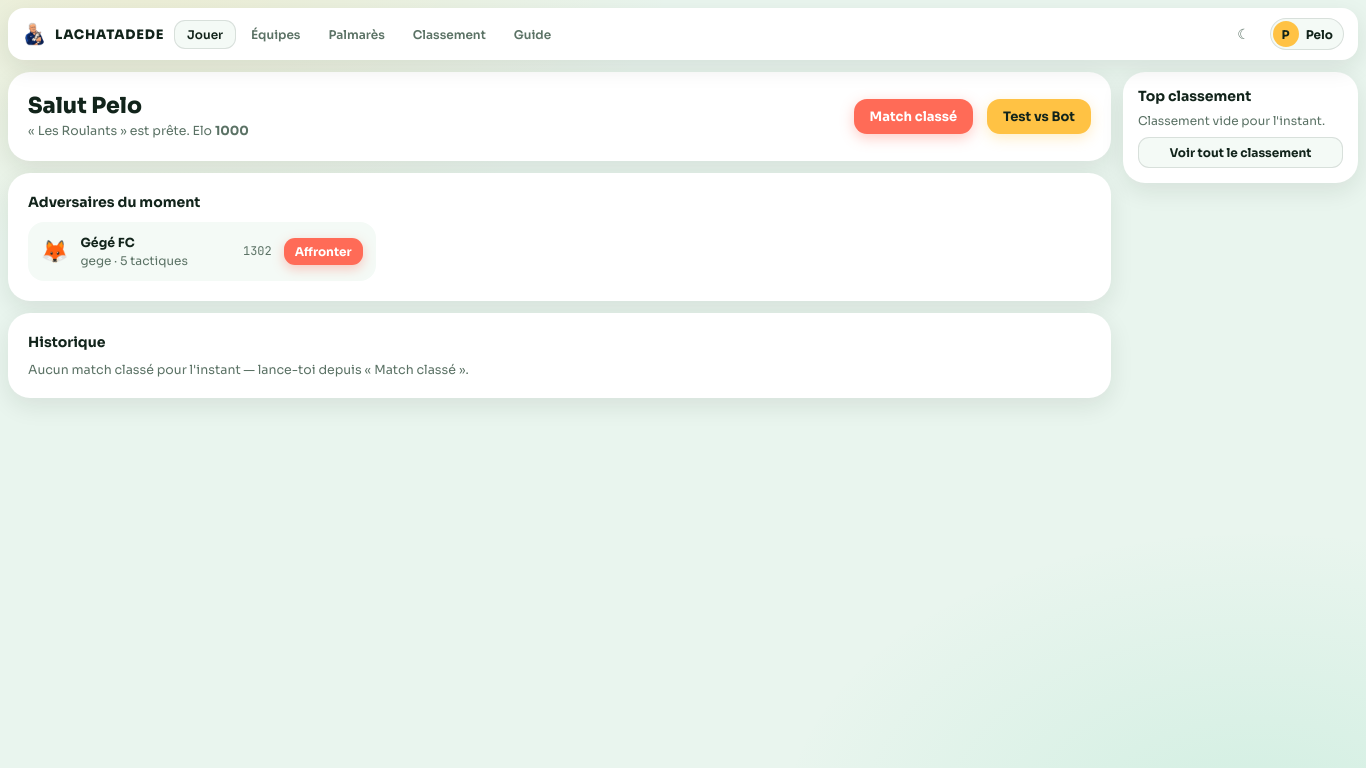
Test case: PlayPage (story 7.6) › ranked chooser › opens from the hero, lists opponents and goes back
What coordinates should you click on to do the following:
click the button with test id "ranked-open-button"
I would click on:
 (913, 116)
Its box is x1=854 y1=99 x2=973 y2=134.
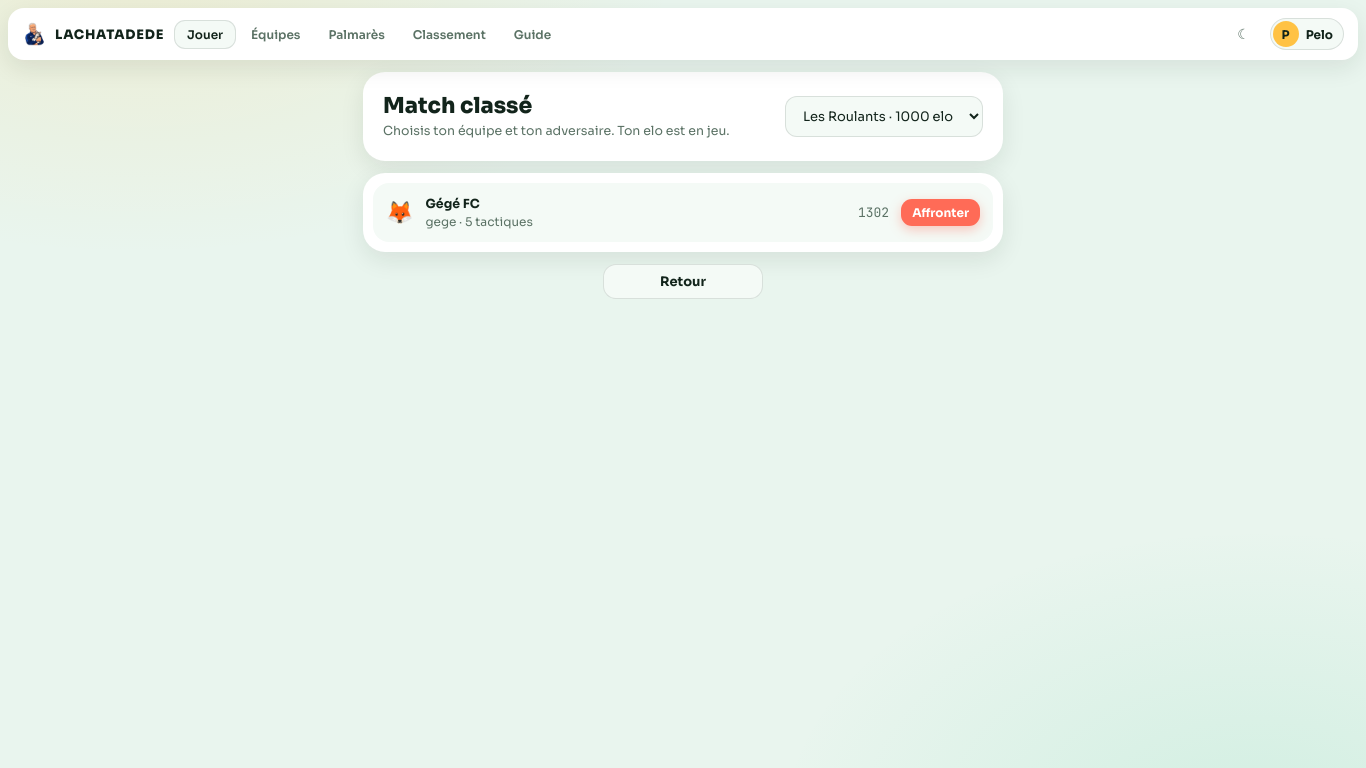
Expected: the element with test id "ranked-opponent-row" shows "Gégé FC", x1=426 y1=196 x2=480 y2=212
Expected: the element with test id "ranked-view" is shown, x1=363 y1=72 x2=1003 y2=299
Expected: the dropdown with test id "ranked-fighter-select" is shown, x1=785 y1=96 x2=983 y2=137
What coordinates should you click on to do the following:
click the button with test id "ranked-back-button"
I would click on:
 (683, 281)
Its box is x1=603 y1=264 x2=763 y2=299.
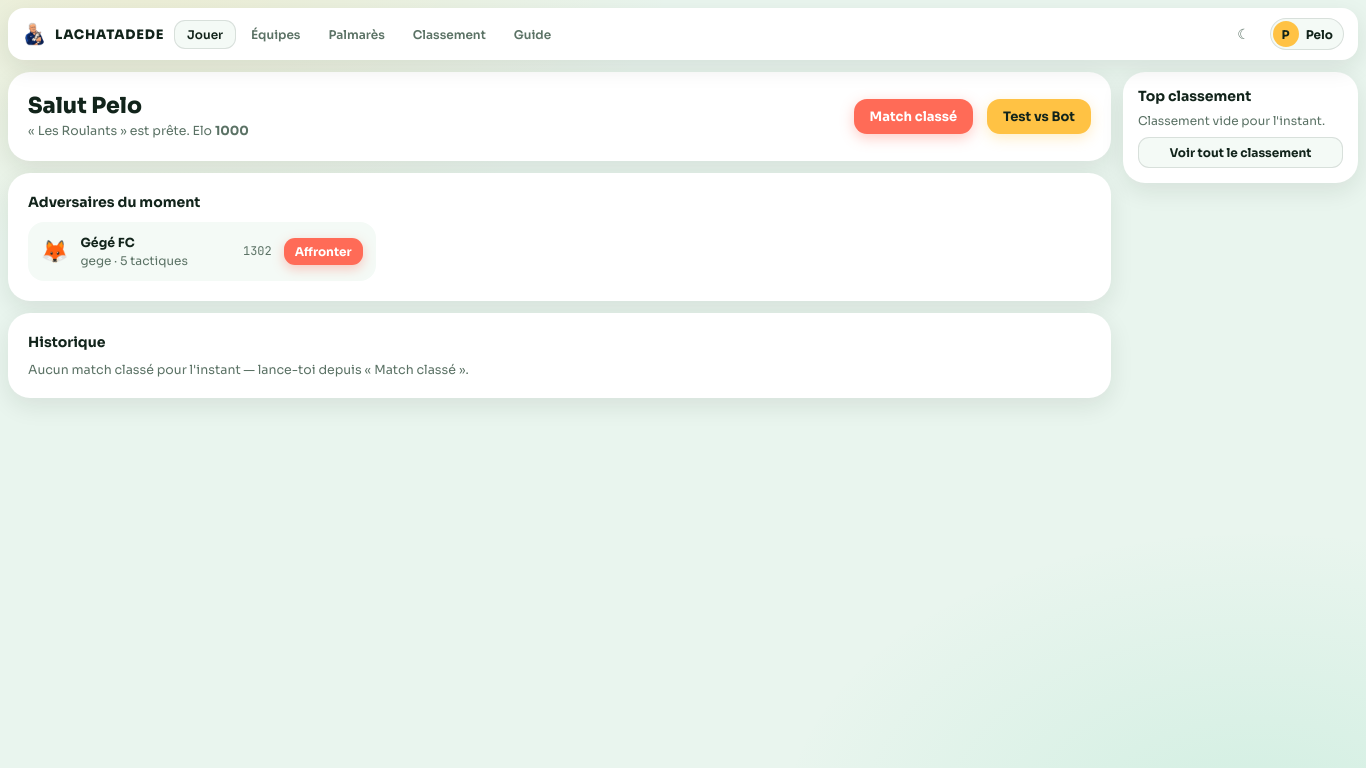
Expected: the element with test id "ranked-view" is gone
